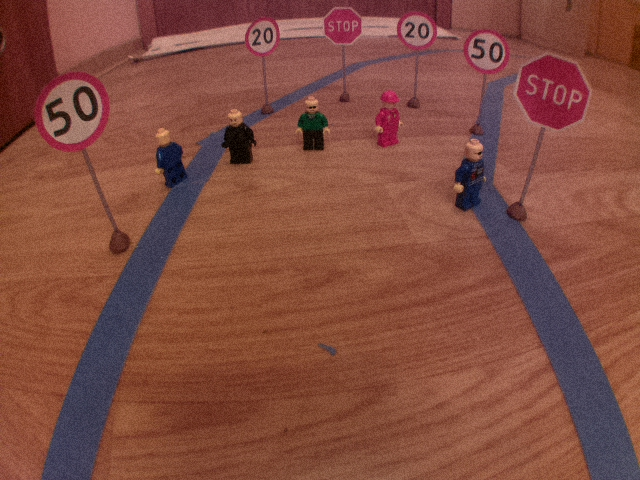LEGO_person: (450, 136, 489, 213), (150, 123, 193, 190), (218, 105, 259, 168), (295, 92, 335, 152), (370, 89, 407, 152)
ogr_20: (241, 14, 284, 59), (396, 10, 438, 52)
ogr_50: (31, 69, 113, 153), (461, 27, 511, 77)
stop: (511, 48, 598, 134), (319, 4, 366, 49)
